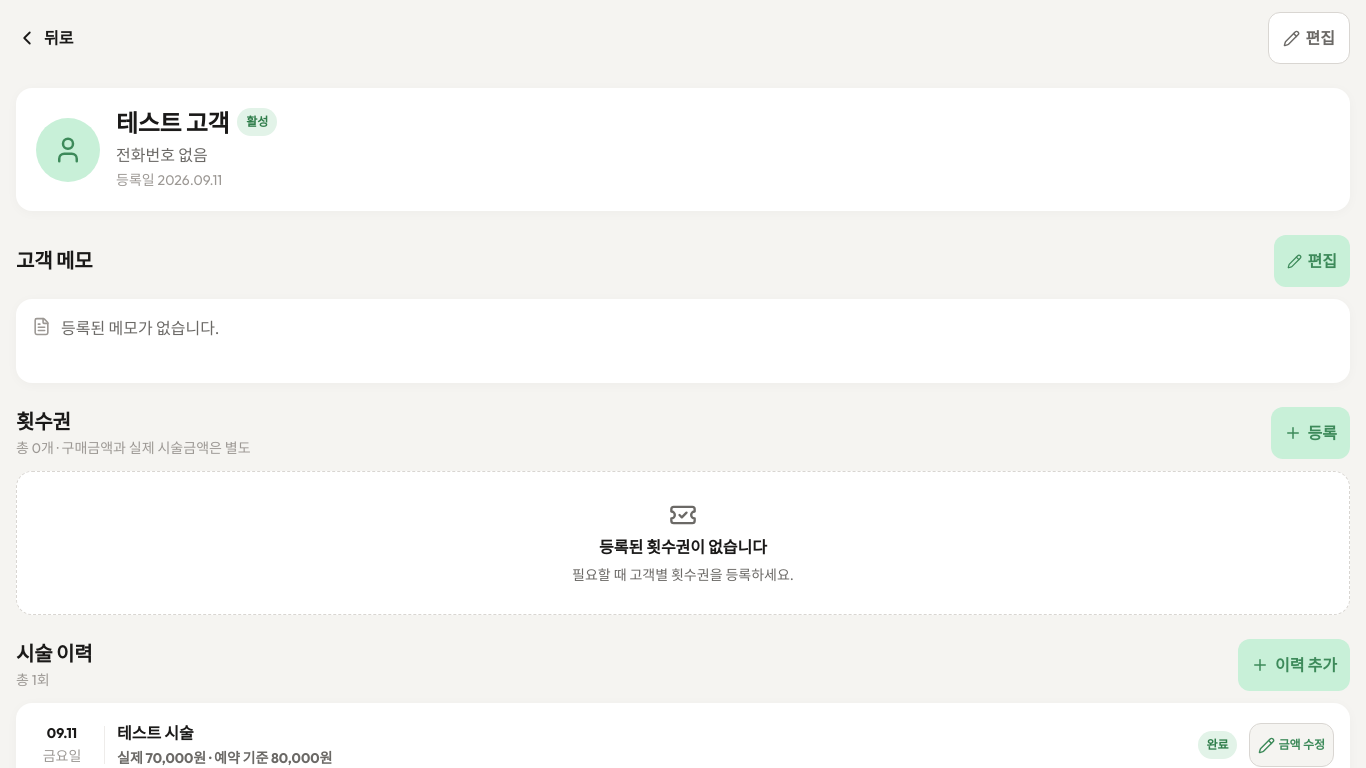
it: 완료 예약은 변경 사유가 없으면 저장하지 않는다
Click the button with aria-label "테스트 시술 실제 시술금액 수정" at x=1291, y=745, box [1248,723,1334,767]
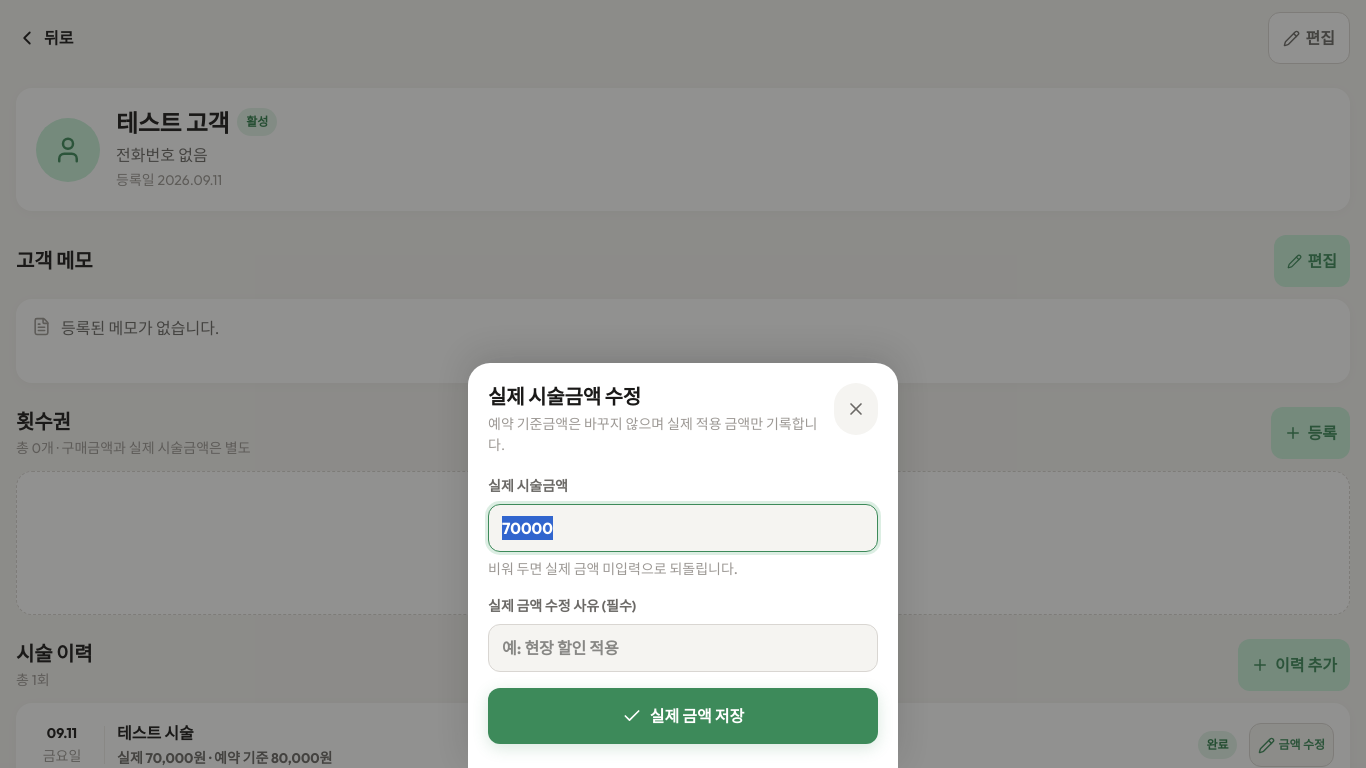
Replace the text in the field with placeholder "미입력" with "75000" at x=683, y=528, box [488,504,878,552]
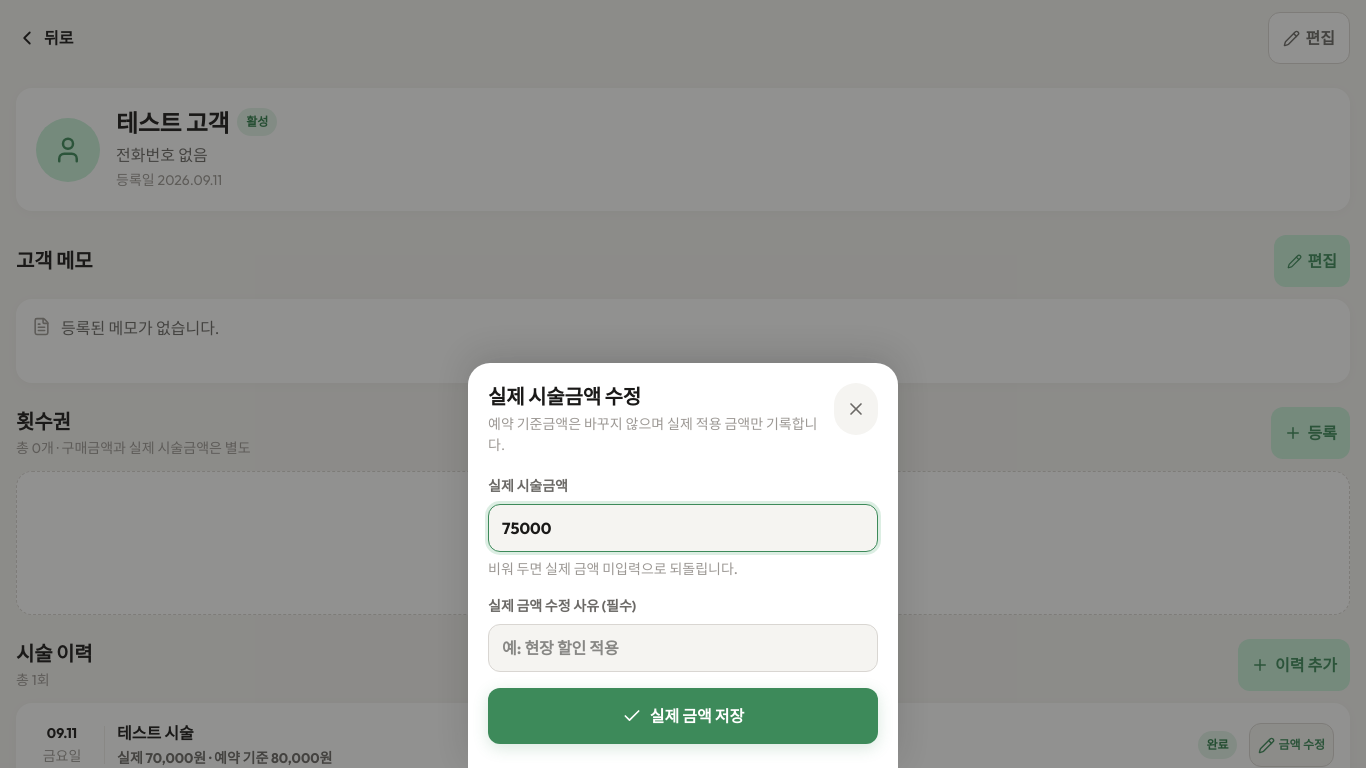
Submit the form with placeholder "미입력", box [488,476,878,744]
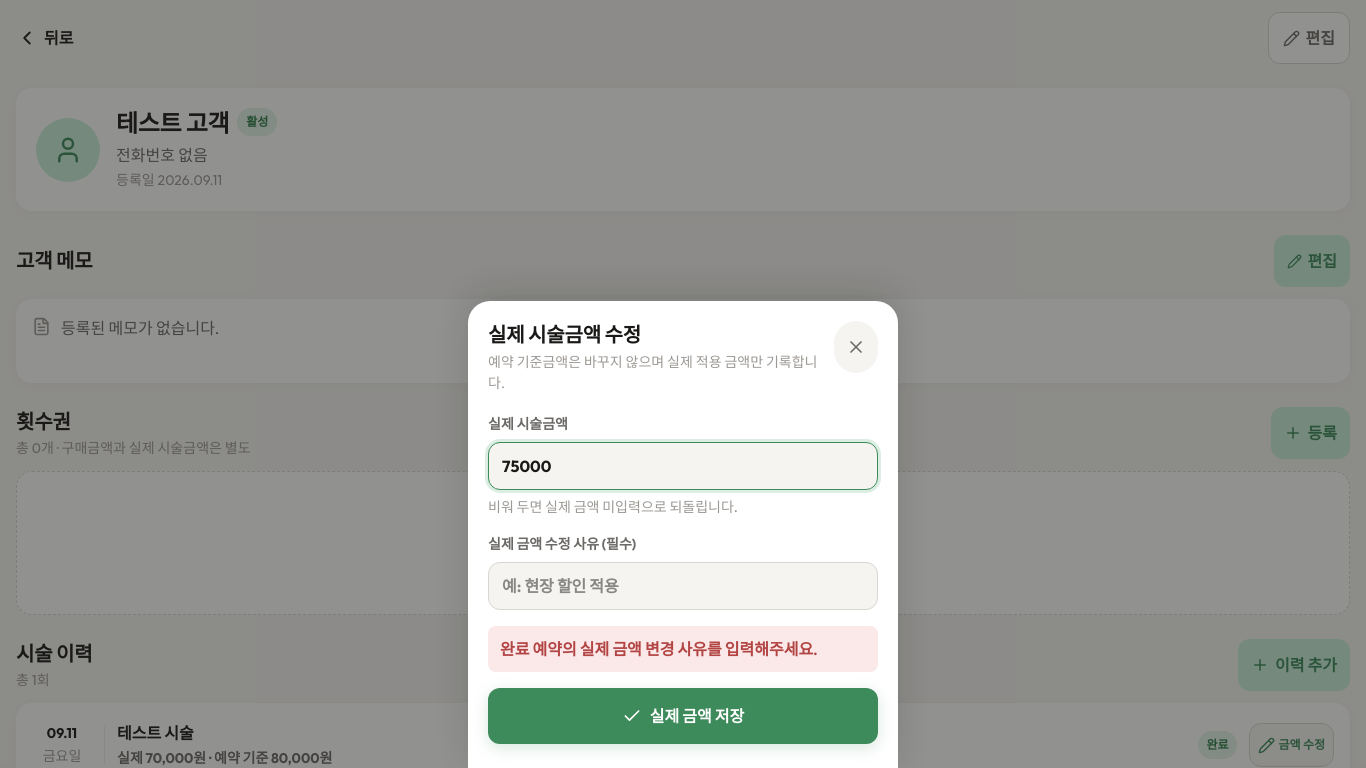
Check: the message shows "변경 사유", box [500,639,818,659]
